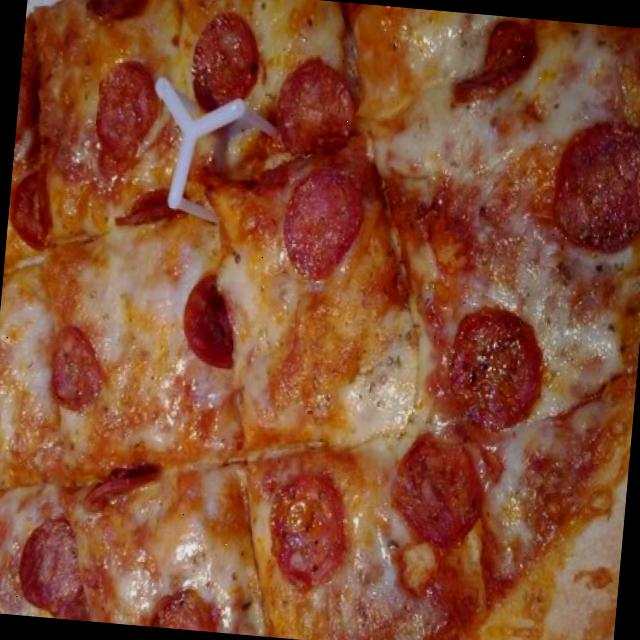cheese: (90, 226, 195, 437), (376, 6, 486, 189), (474, 35, 617, 172), (528, 251, 636, 401), (334, 305, 441, 445), (115, 482, 252, 588), (0, 292, 63, 452), (219, 242, 301, 356)
pepperoni: (442, 296, 549, 432), (547, 113, 640, 257), (389, 436, 485, 560), (260, 468, 348, 592), (279, 163, 366, 285), (5, 73, 62, 256), (272, 52, 360, 158), (91, 55, 166, 176), (450, 11, 536, 112), (190, 12, 262, 116), (15, 515, 89, 612), (40, 322, 110, 421), (175, 276, 245, 374), (80, 454, 164, 518), (111, 178, 191, 238), (146, 586, 221, 632), (80, 0, 151, 34)
pizza: (0, 0, 640, 640)
